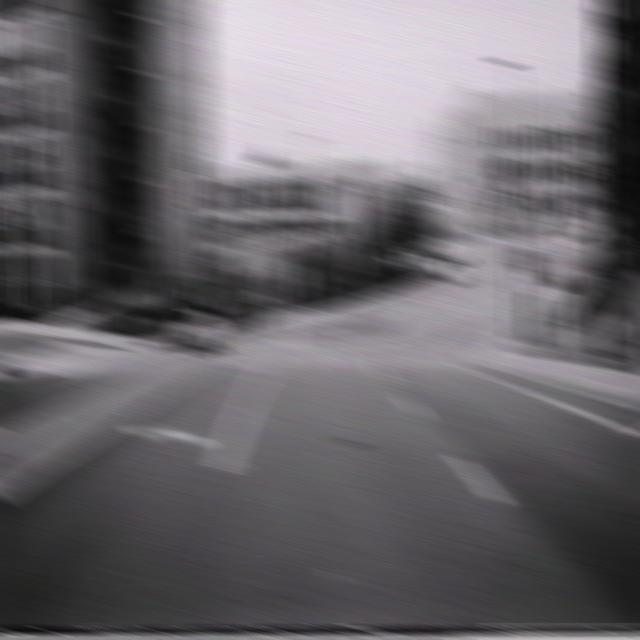stop_sign: (514, 244, 540, 280), (203, 249, 229, 283)
